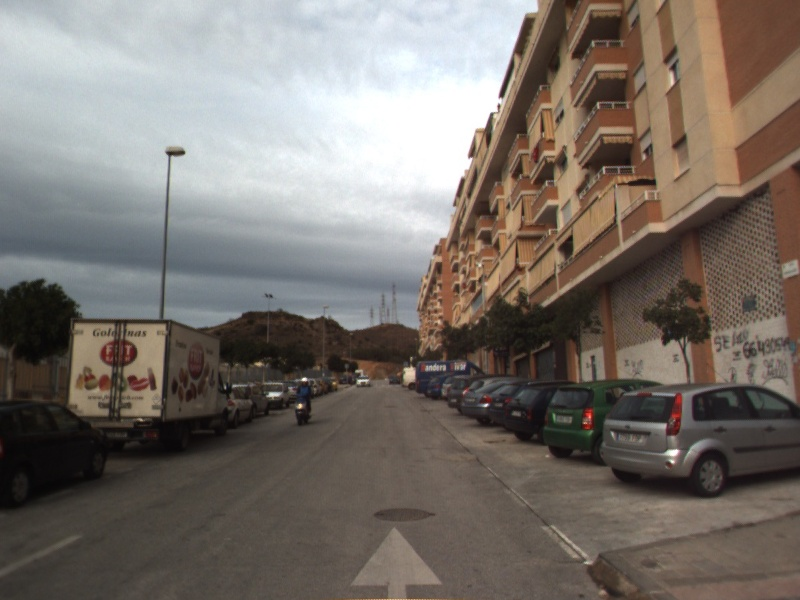STRAIGHT: (348, 524, 445, 600)
